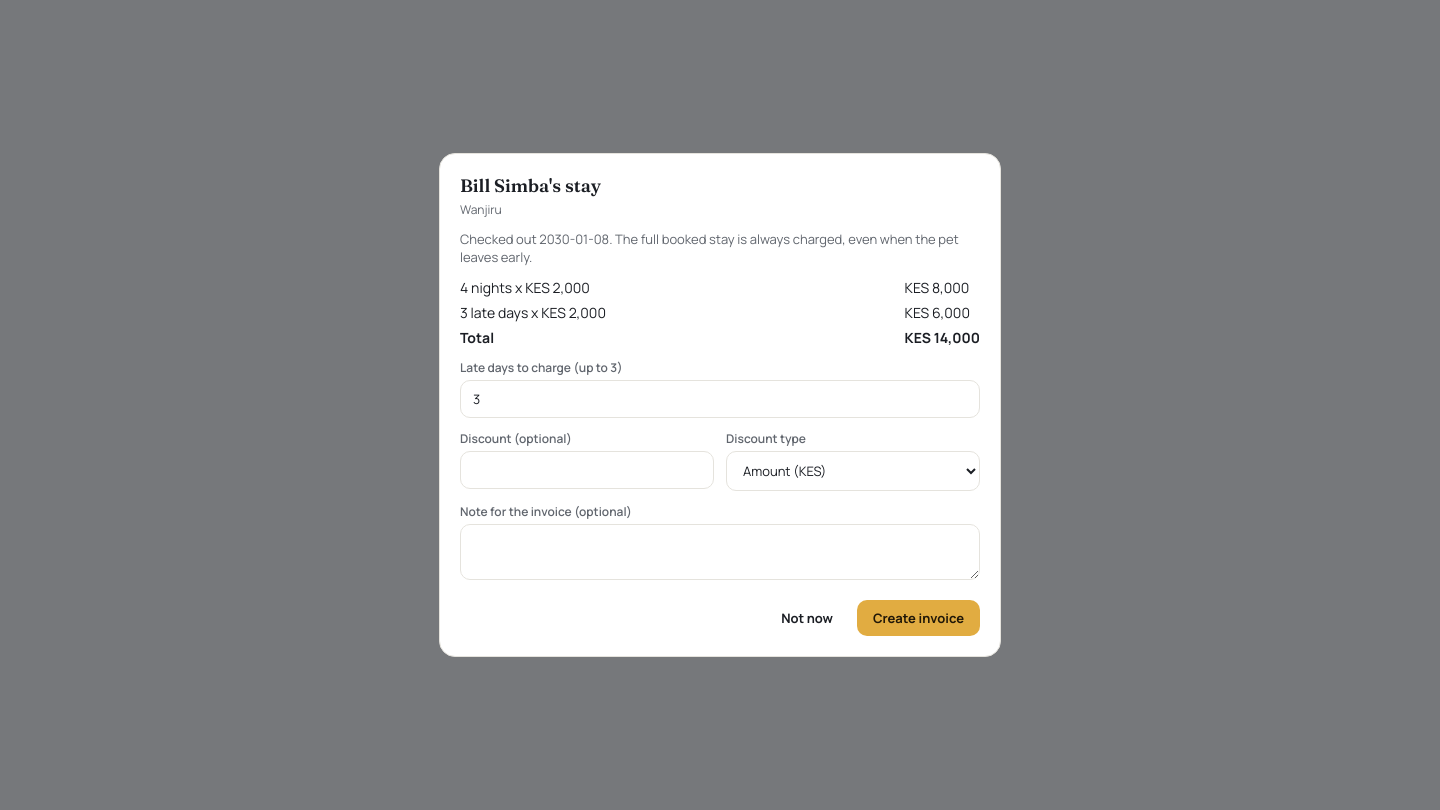
StayInvoiceModal › clamps an over-large entry down to the suggestion
The width and height of the screenshot is (1440, 810).
Replace the text in the number field labelled "Late days to charge (up to 3)" with "99" at point(720, 399), box [460,380,980,418]
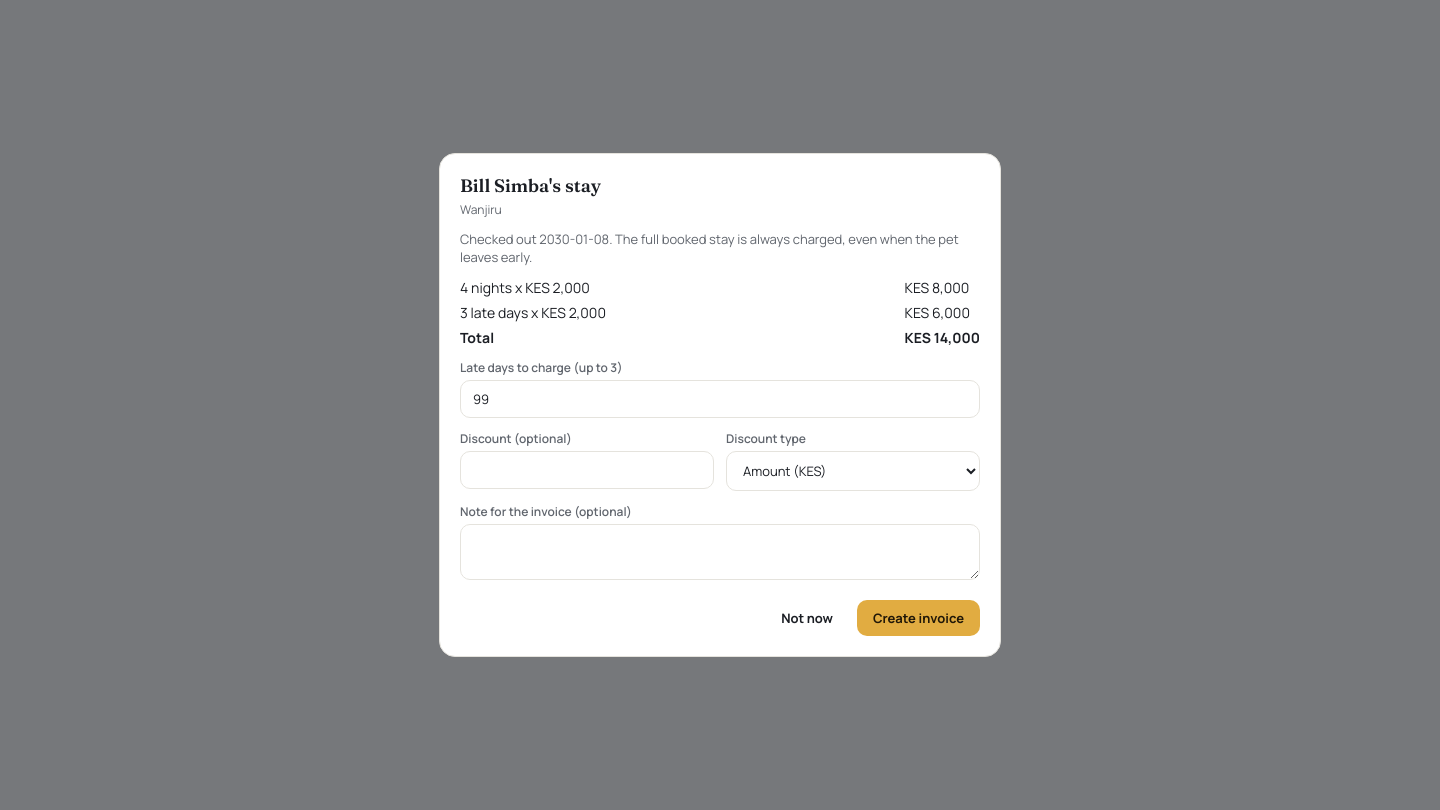
Leave the number field labelled "Late days to charge (up to 3)", box [460,380,980,418]
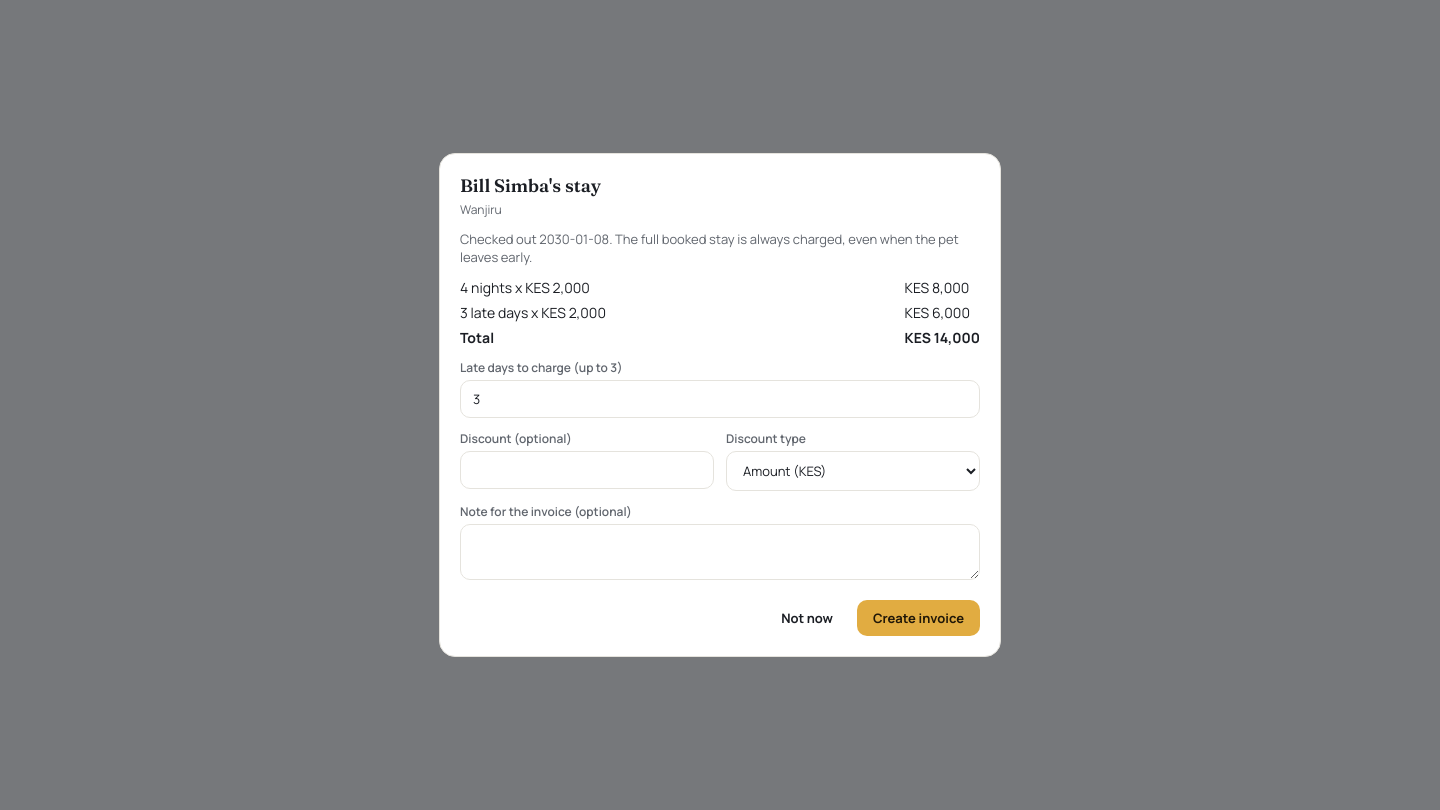
expect the number field labelled "Late days to charge (up to 3)" holds "3": met, box [460,380,980,418]
